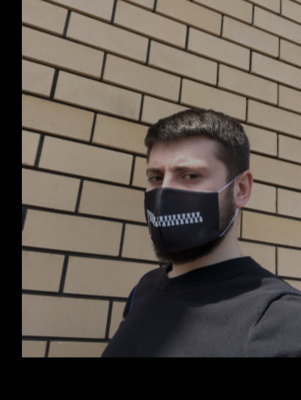with_mask: (142, 154, 221, 263)
